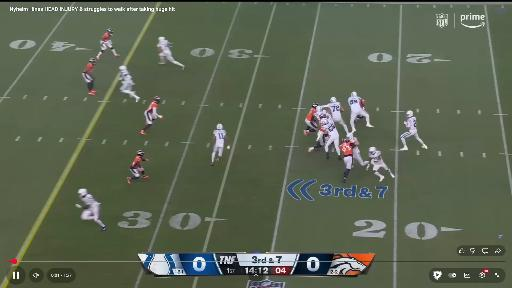Helmet: (78, 189, 87, 196), (153, 96, 161, 103), (319, 113, 328, 119), (369, 147, 376, 154), (137, 150, 144, 156), (316, 106, 322, 113), (321, 119, 328, 125), (107, 28, 113, 35), (346, 133, 353, 139), (407, 111, 413, 117), (119, 66, 126, 71), (312, 103, 318, 108), (331, 97, 337, 102), (158, 37, 165, 41), (217, 124, 222, 129), (351, 92, 357, 96), (341, 139, 347, 143)
Jersey: (323, 102, 341, 118), (322, 120, 338, 137), (82, 194, 98, 207), (369, 151, 384, 164), (130, 156, 145, 169), (348, 96, 361, 110), (340, 142, 353, 156), (404, 117, 417, 130), (214, 130, 226, 144), (121, 70, 132, 82), (315, 110, 327, 121), (157, 40, 169, 51), (147, 102, 157, 114), (306, 108, 315, 121), (84, 63, 93, 74), (102, 33, 110, 42)
Player: (76, 189, 106, 230), (348, 92, 373, 133), (401, 111, 427, 150), (323, 97, 348, 133), (320, 118, 341, 159), (140, 97, 163, 134), (369, 147, 394, 181), (158, 37, 184, 69), (346, 133, 369, 165), (120, 66, 139, 102), (127, 151, 148, 183), (97, 29, 119, 59), (339, 139, 354, 183), (212, 124, 227, 165), (303, 103, 319, 135), (83, 59, 97, 95), (308, 127, 327, 152), (315, 106, 331, 121)
